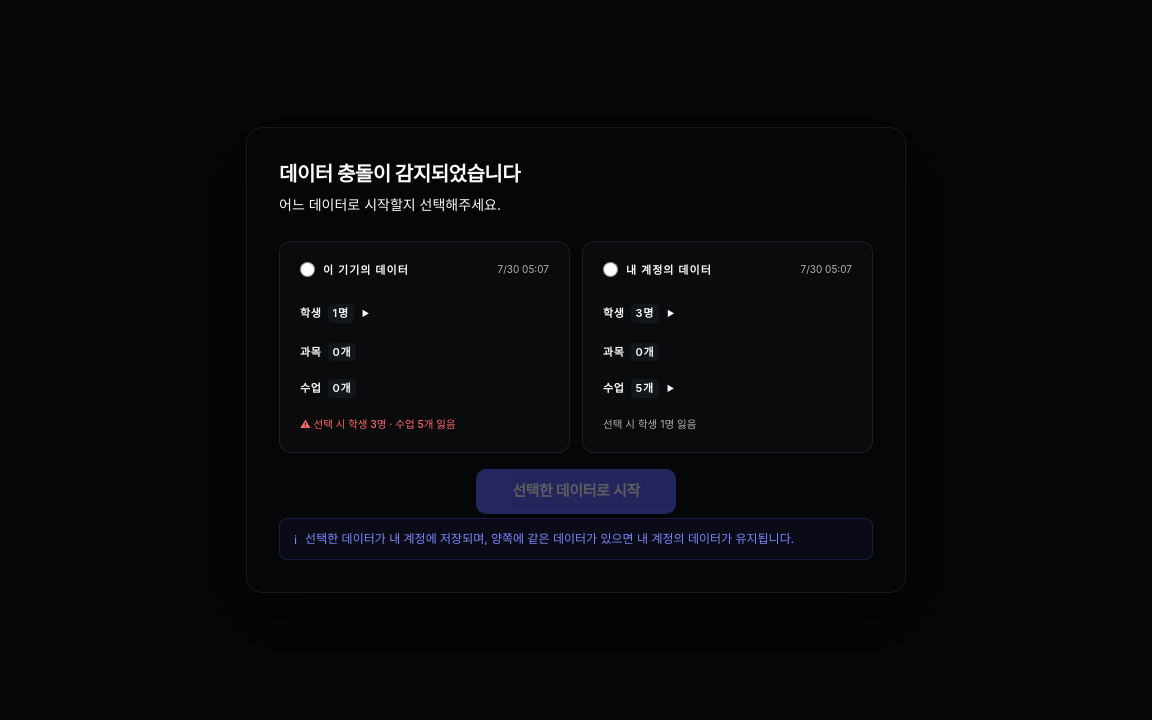
Test: DataConflictModal — Layered Defense (Phase 1) › 큰 손실(local 선택 시) — 손실 텍스트 + 데스크톱 버튼 '(위험)' 라벨
Step 1. Click the radio button labelled "이 기기의 데이터 7/30 05:07" → (308, 270), box [300,262,315,277]
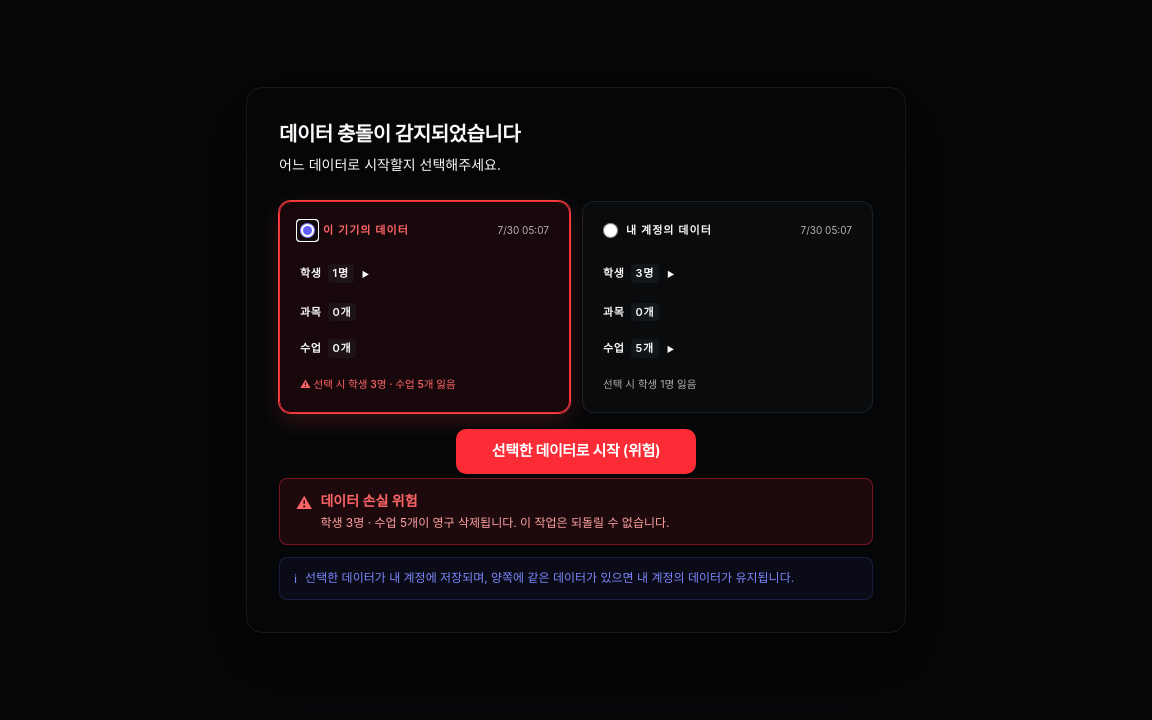
Expected: the text "⚠ 선택 시 학생 3명 · 수업 5개 잃음" is shown, [300,378,456,391]
Expected: the button "선택한 데이터로 시작 (위험)" is shown, [456,429,696,474]
